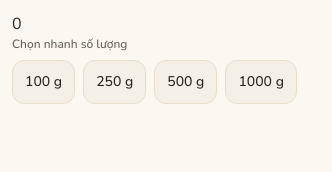
Test: PantryQuantityPresets › fills a decimal quantity for the exact g unit
The image size is (332, 172).
Click the button "250 g".
click(115, 82)  # box x1=83 y1=60 x2=146 y2=104
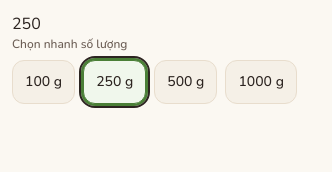
Expected: the field named "Quantity" holds "250", x1=12 y1=12 x2=211 y2=36
